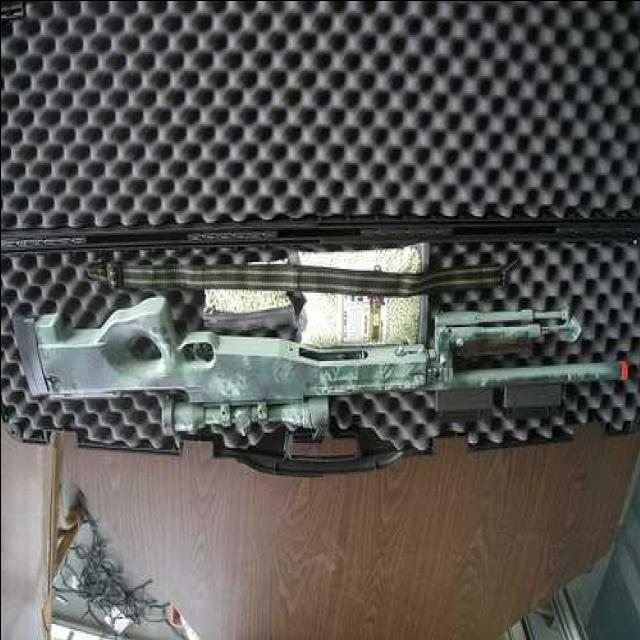heavyweapon: (9, 278, 640, 438)
